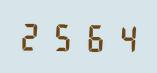five: (48, 19, 77, 52)
four: (108, 20, 137, 54)
six: (78, 20, 107, 53)
two: (18, 18, 47, 52)
